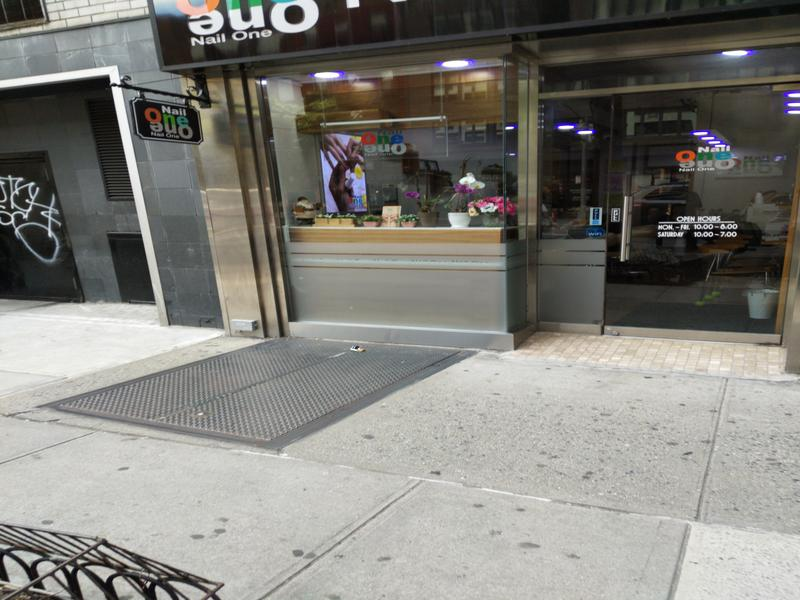door: (609, 83, 790, 352)
